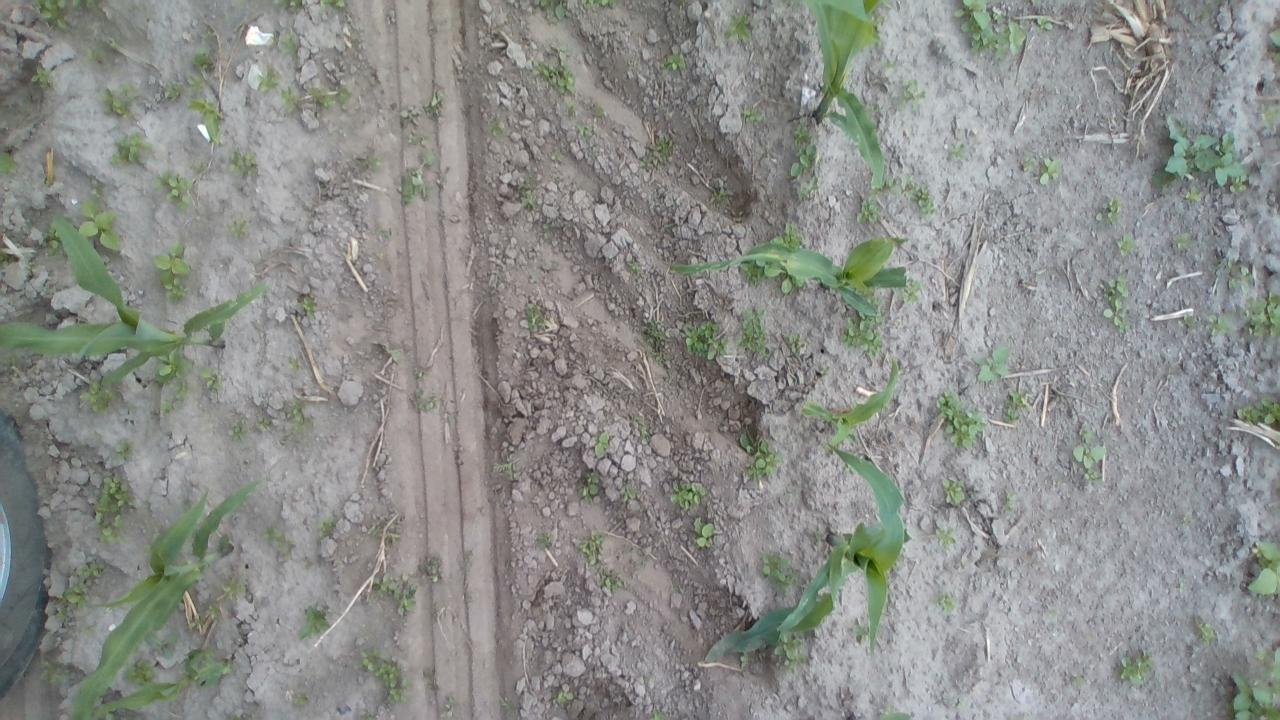Maize: (704, 441, 913, 666), (71, 478, 262, 718), (2, 214, 262, 390), (670, 236, 906, 318), (806, 0, 886, 189), (90, 646, 237, 720), (803, 358, 897, 445), (878, 711, 914, 720)
Weeds: (1161, 113, 1245, 186), (1224, 640, 1280, 720), (958, 0, 1028, 62), (934, 386, 990, 452), (359, 644, 409, 700), (94, 475, 132, 545), (758, 545, 804, 597), (682, 318, 732, 364), (76, 200, 121, 251), (888, 173, 941, 216), (740, 432, 781, 487), (1237, 291, 1280, 341), (374, 570, 420, 615), (966, 342, 1015, 384), (1098, 270, 1132, 330), (399, 149, 435, 204), (1248, 538, 1280, 596), (845, 316, 886, 360), (186, 97, 224, 143), (739, 302, 768, 358), (203, 578, 243, 618), (110, 133, 150, 171), (527, 62, 578, 91), (1233, 395, 1280, 426), (298, 602, 334, 642), (1114, 648, 1154, 684), (643, 133, 675, 177), (1072, 443, 1107, 483), (154, 243, 188, 284), (1002, 384, 1030, 431), (784, 144, 820, 178), (670, 477, 706, 511), (55, 586, 91, 620), (100, 84, 137, 117), (642, 321, 674, 357), (153, 354, 189, 386), (333, 149, 358, 194), (146, 633, 184, 662), (939, 472, 972, 505), (80, 380, 114, 412), (160, 171, 192, 205), (284, 396, 314, 432), (161, 382, 194, 414), (42, 0, 76, 30), (523, 305, 553, 337), (775, 635, 805, 667), (578, 532, 606, 566), (423, 82, 447, 120), (851, 197, 881, 226), (689, 516, 718, 546), (1228, 260, 1256, 291), (576, 470, 604, 500), (772, 222, 804, 248), (406, 390, 439, 415), (900, 78, 930, 105), (126, 658, 156, 684), (265, 525, 291, 555), (532, 0, 572, 19), (38, 662, 72, 684), (782, 330, 808, 358), (399, 105, 428, 130), (518, 176, 538, 212), (1038, 152, 1060, 184), (944, 141, 971, 167), (306, 85, 334, 110), (277, 35, 303, 61), (1194, 624, 1220, 650), (258, 64, 281, 93), (228, 149, 258, 171), (731, 9, 752, 40), (1208, 314, 1234, 339), (798, 178, 822, 205), (555, 682, 582, 705), (76, 560, 110, 578), (665, 52, 690, 76), (318, 515, 342, 540), (201, 368, 226, 392), (899, 280, 922, 306), (82, 46, 111, 66), (282, 86, 302, 114), (932, 525, 955, 549), (161, 79, 190, 98), (190, 48, 215, 70), (274, 0, 306, 17), (1114, 230, 1136, 254), (632, 413, 649, 444), (594, 433, 613, 460), (1259, 106, 1280, 130), (1167, 231, 1193, 250), (112, 440, 135, 461), (620, 483, 644, 503), (1104, 195, 1123, 220), (229, 422, 250, 444), (553, 41, 577, 60), (422, 556, 439, 582), (710, 182, 731, 203), (626, 258, 648, 278), (938, 591, 960, 611), (228, 217, 247, 240), (581, 0, 620, 11), (1001, 489, 1018, 514), (742, 106, 762, 127), (792, 124, 813, 144), (601, 572, 622, 592), (187, 73, 208, 93), (383, 342, 404, 362), (302, 294, 318, 318), (30, 64, 48, 85), (880, 56, 903, 72), (90, 183, 110, 200), (1267, 26, 1280, 52), (41, 229, 58, 248), (0, 152, 16, 172), (291, 692, 313, 706), (168, 281, 188, 296), (337, 85, 352, 105), (1038, 15, 1054, 32), (255, 416, 272, 432), (1183, 313, 1200, 329), (316, 0, 346, 9), (1186, 188, 1204, 202), (74, 0, 92, 14), (537, 532, 552, 548), (565, 98, 578, 115), (1078, 424, 1092, 439), (493, 463, 512, 474), (490, 122, 503, 138), (590, 105, 608, 116), (1070, 676, 1084, 690), (650, 707, 665, 720), (819, 364, 834, 376), (362, 710, 380, 720), (226, 711, 245, 720), (576, 124, 590, 136), (1019, 161, 1032, 173), (289, 358, 301, 369), (195, 160, 209, 169), (413, 365, 424, 376)
